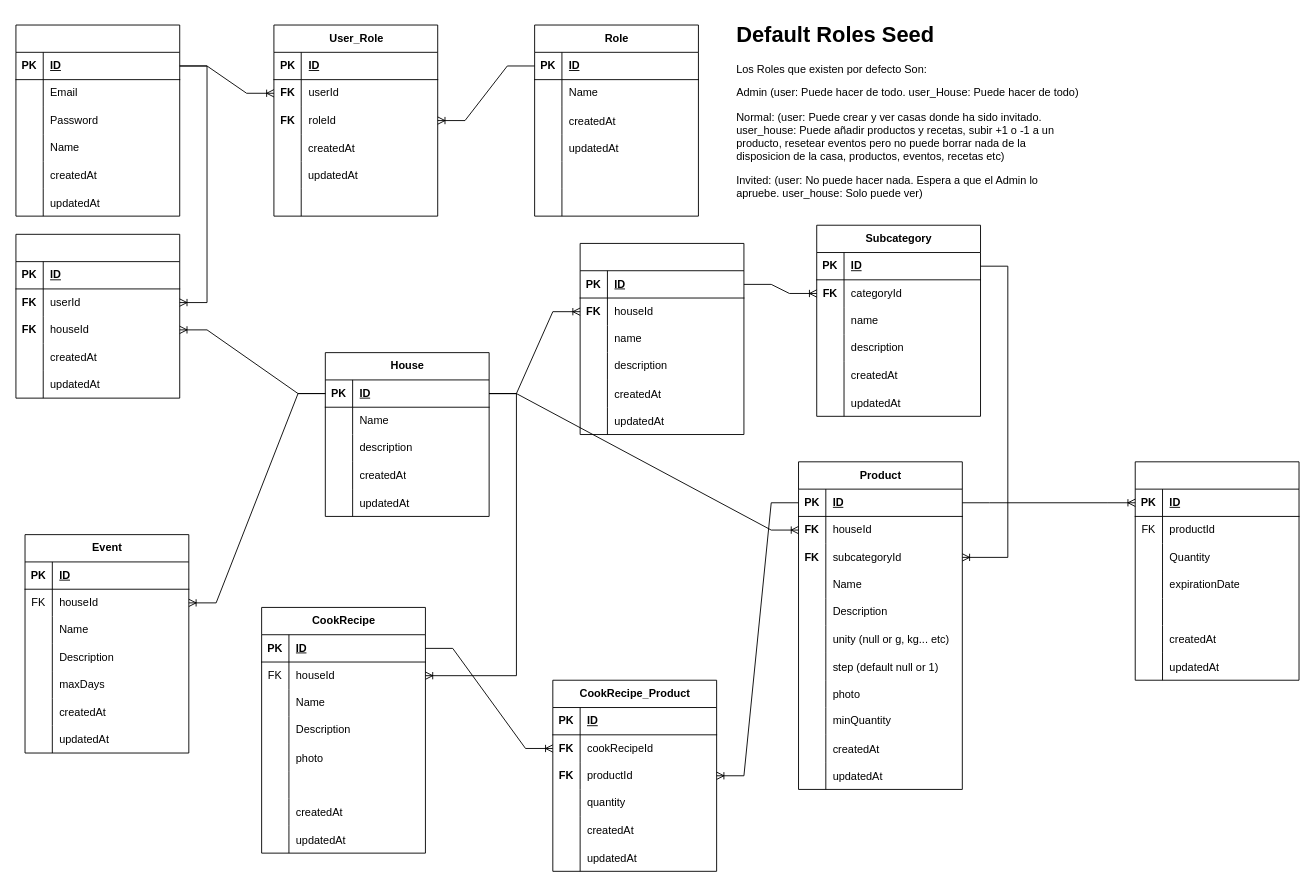
The diagram is 1315 pixels wide and 887 high, and some of its shapes have lost their labels. The shapes that lost their labels are listed below. From the top down, each one's box as (x1, y1, x2, y2) in pixels, then its label:
(15, 24, 180, 216): User
(15, 233, 180, 398): User_House
(579, 243, 744, 435): Category
(1134, 461, 1299, 680): Product_Batch
